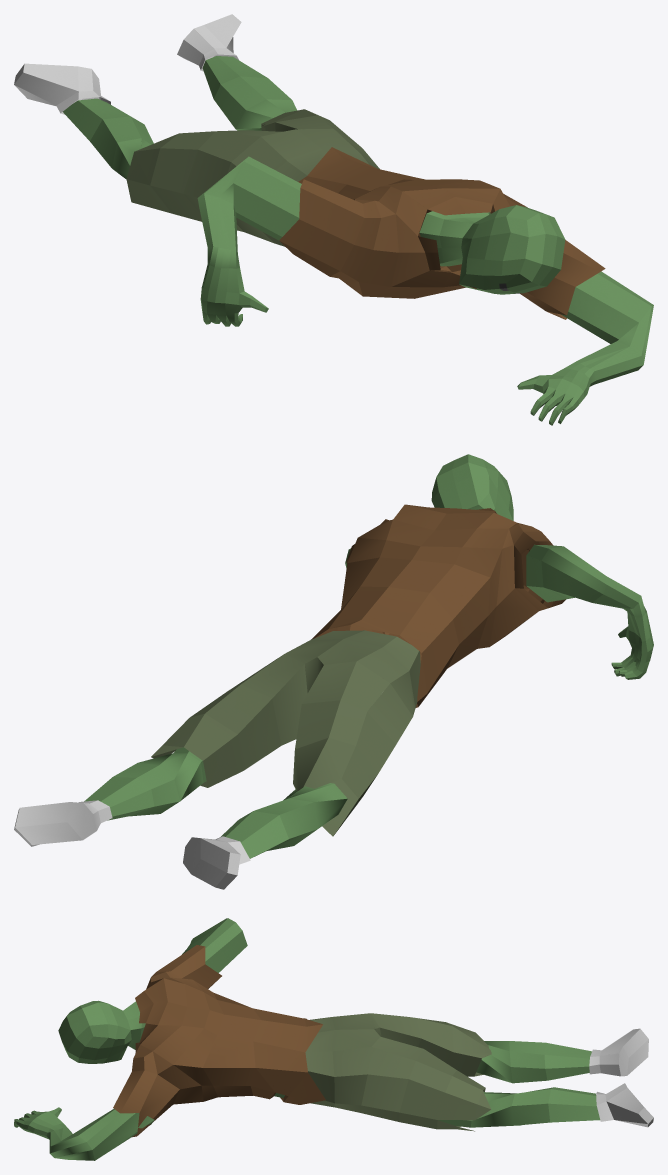
The model's file is ZombieCrawl(65).obj.
3 renders of one model, top to bottom at view 1: azimuth 30°, elevation 25°; view 2: azimuth 150°, elevation 25°; view 3: azimuth 270°, elevation 25°, orthographic. The views are drawn at different scales.
Parts seen in each view (by area): view 1: Object001; view 2: Object001; view 3: Object001.
Part boxes in pixels (x1,y1,x2,y2): Object001: (14,14,653,425); Object001: (14,454,653,889); Object001: (14,918,653,1160).
Size of the model in its own units: 33.45 by 16.98 by 65.98.
